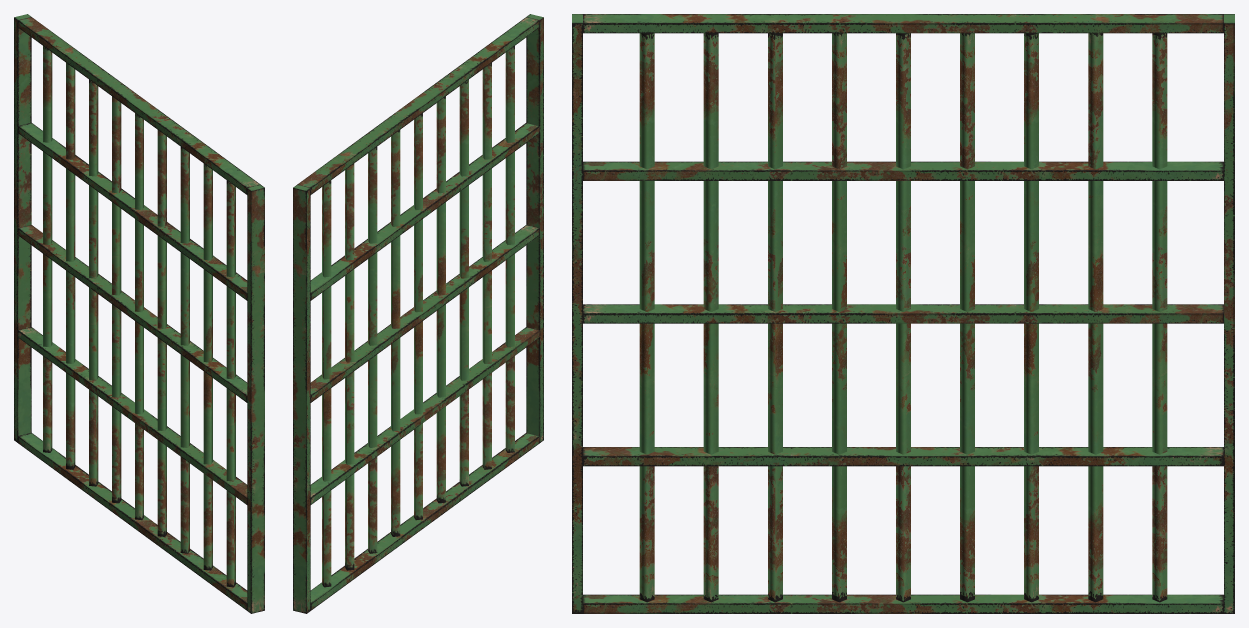
Rendered from metalBars01_3m.FBX.
The picture shows the model from 3 angles, left to right: view 1: azimuth 30°, elevation 25°; view 2: azimuth 150°, elevation 25°; view 3: azimuth 270°, elevation 25°; orthographic projection. The views are drawn at different scales.
Parts seen in each view (by area): view 1: metalBars01_3m; view 2: metalBars01_3m; view 3: metalBars01_3m.
Part boxes in pixels (box(x1,y1,x2,y2)): metalBars01_3m: box(14, 14, 264, 613); metalBars01_3m: box(293, 14, 543, 613); metalBars01_3m: box(572, 14, 1234, 613).
Size of the model in its own units: 10 by 295 by 300.
